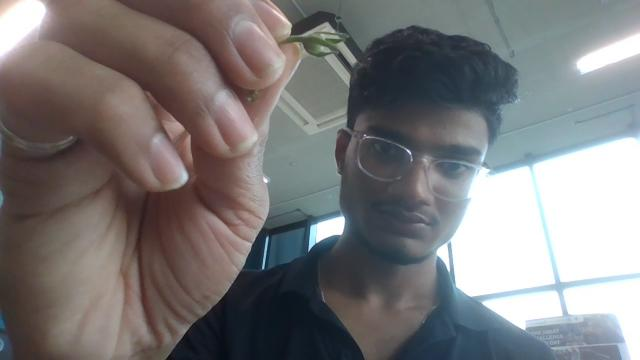Fruit Bud: (282, 32, 350, 57), (302, 39, 331, 57)
